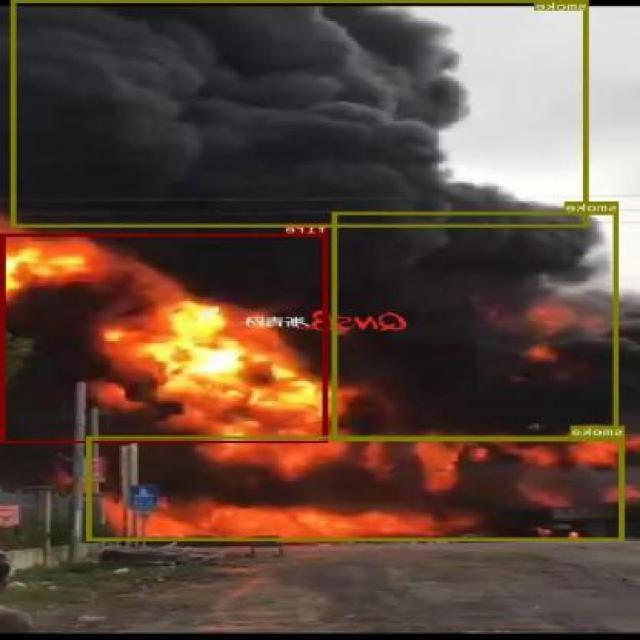Fire: (2, 233, 328, 442)
Smoke: (13, 0, 590, 226), (333, 212, 619, 440), (89, 435, 626, 540)
